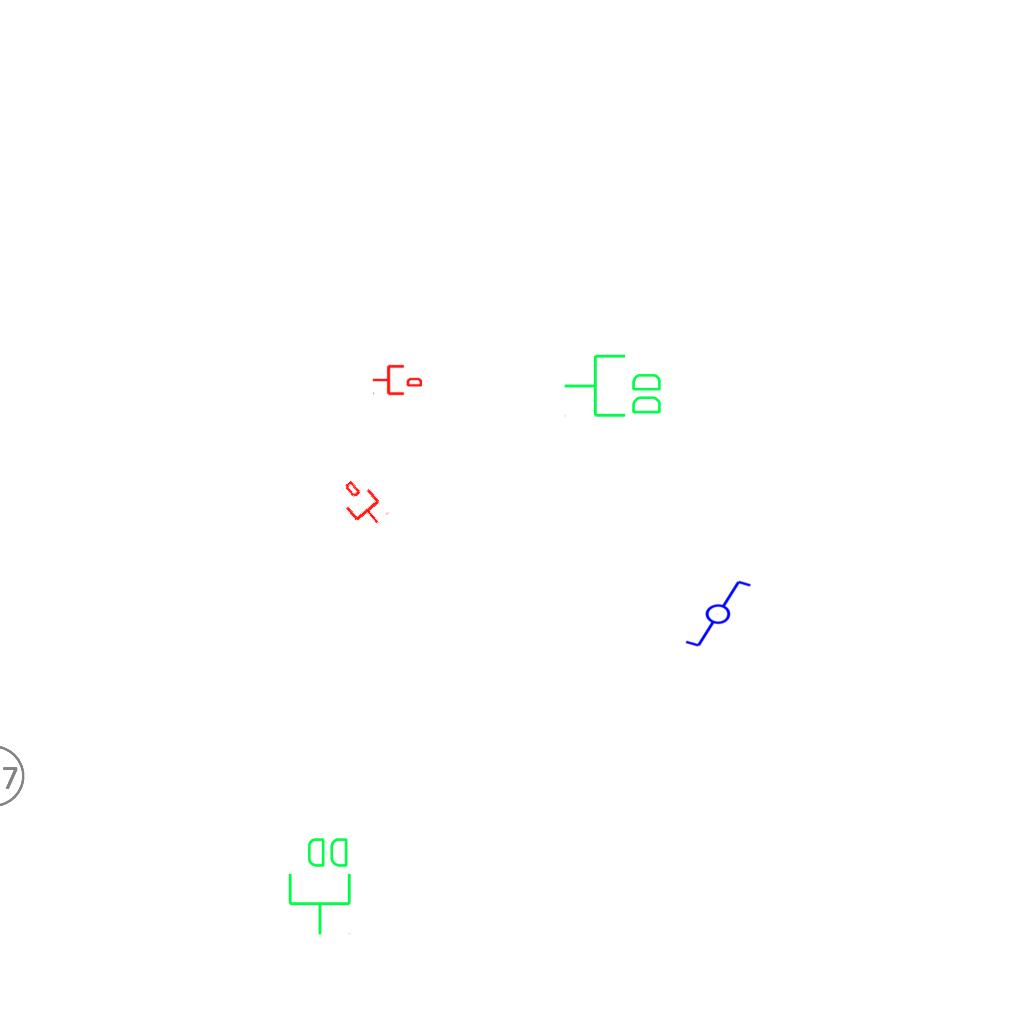Datenanschluss_einfach: (332, 473, 392, 535), (372, 363, 422, 397)
Datenanschluss_zweifach: (562, 352, 665, 421), (286, 834, 355, 937)
Wechselschalter: (675, 577, 753, 649)
